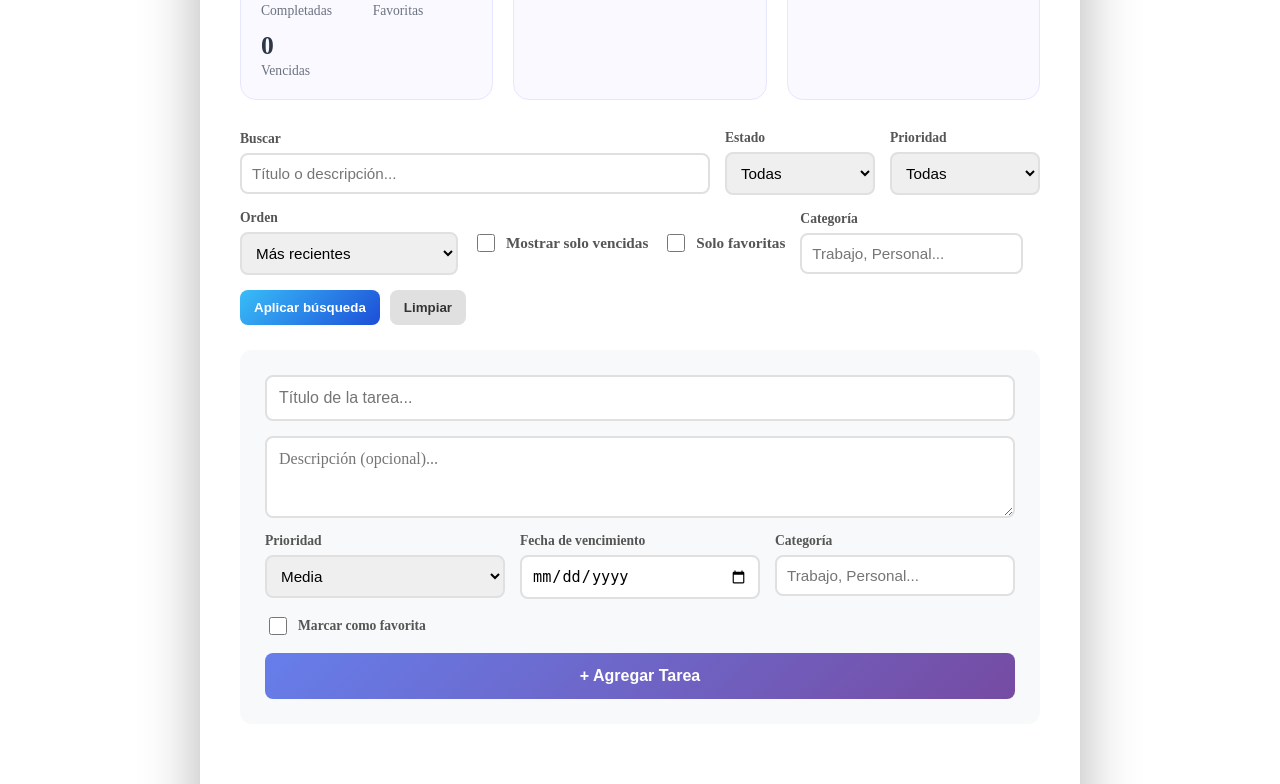
Scenario: App - Gestión de Tareas › notifica error cuando la creación falla
(page scrolled)
Type "Fallida" into the field with placeholder "Título de la tarea..." at (640, 398), box [265,375,1015,421]
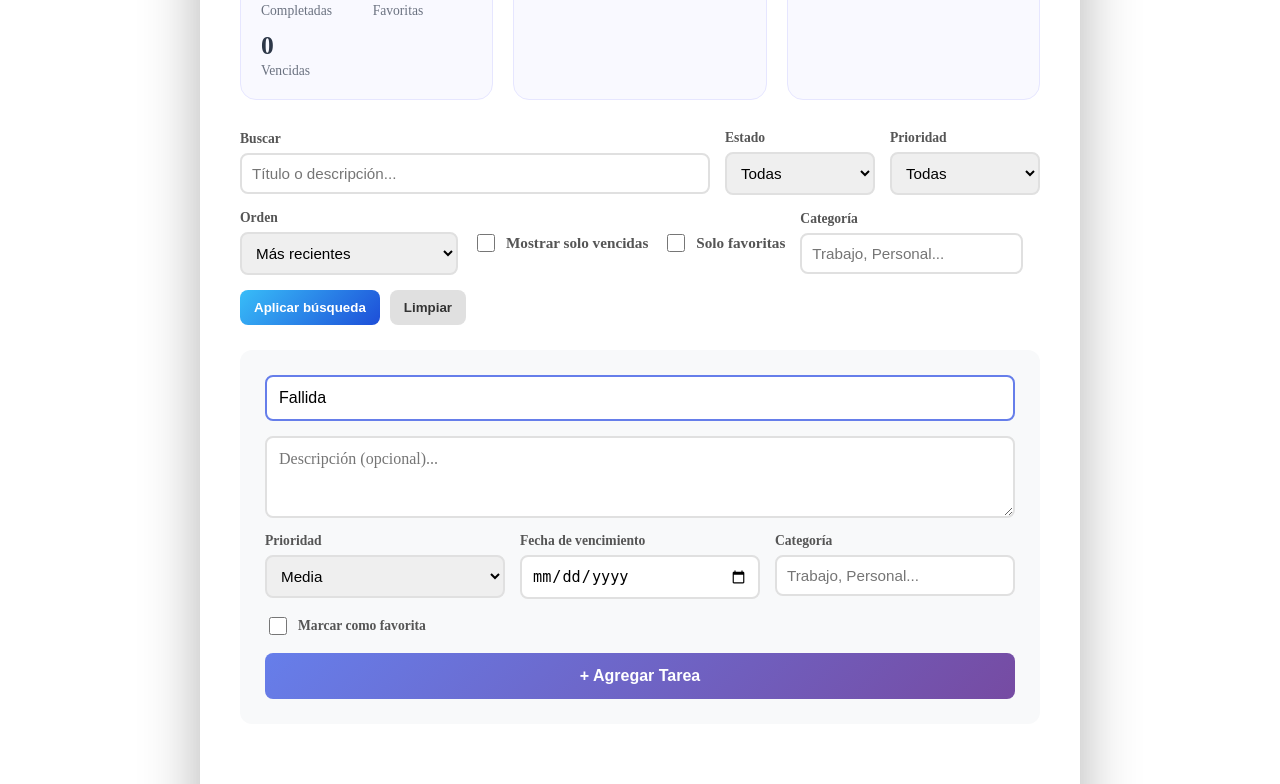
Click the button "+ Agregar Tarea" at (640, 676), box [265,653,1015,699]
(page scrolled)
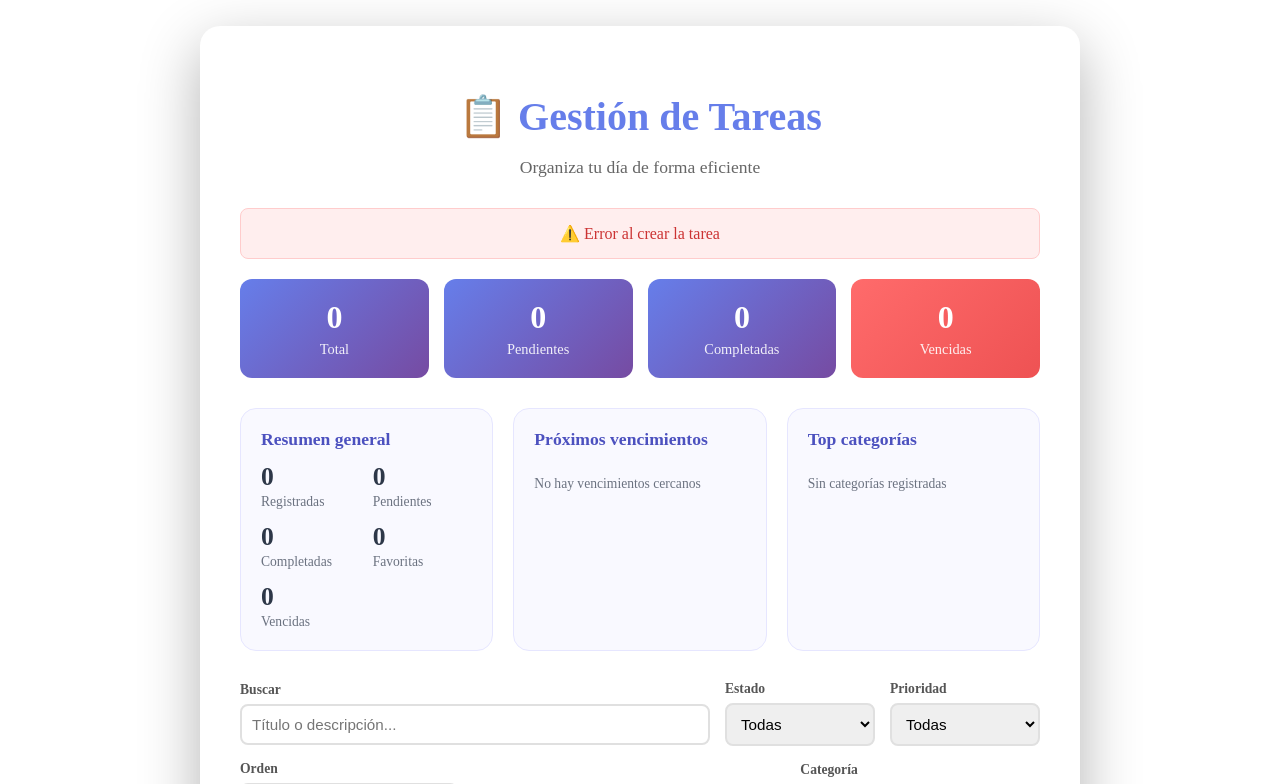
Result: the text "⚠️ Error al crear la tarea" is shown at [240,208,1040,259]
